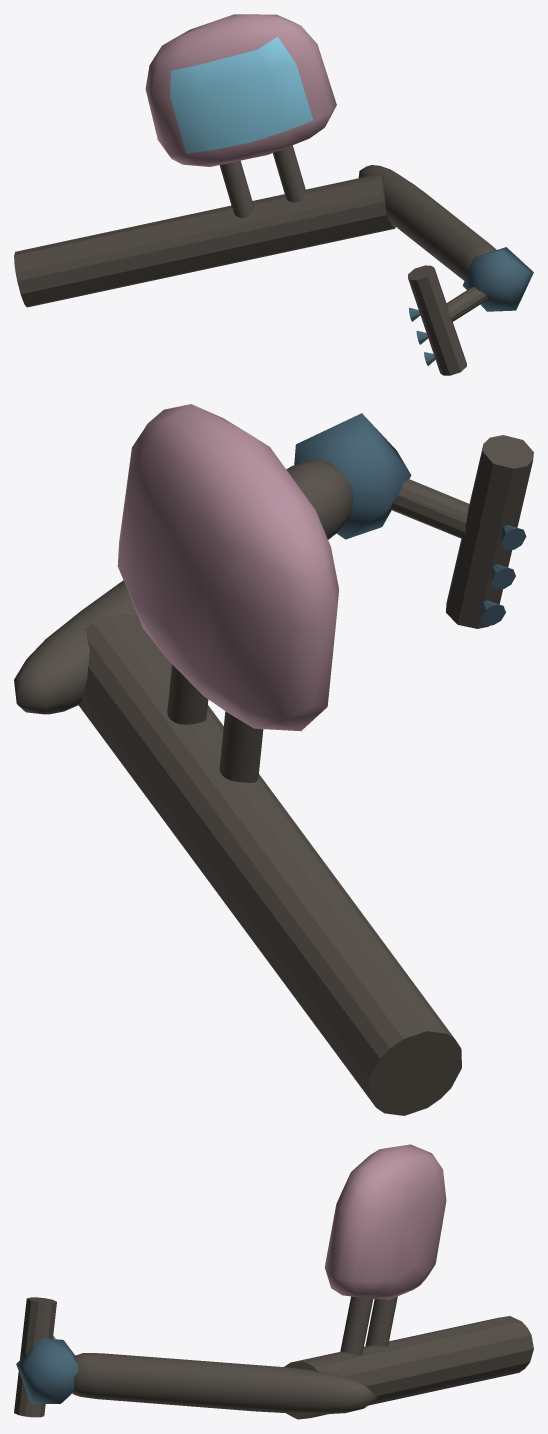
File: machine_part4.glb
3 views of the same model, one above another, from view 1: azimuth 30°, elevation 25°; view 2: azimuth 150°, elevation 25°; view 3: azimuth 270°, elevation 25° (orthographic). The views are drawn at different scales.
Parts seen in each view (by area): view 1: maquina_part4; view 2: maquina_part4; view 3: maquina_part4.
Boxes of the visible parts, left/top/right/bottom form: maquina_part4: left=14, top=14, right=533, bottom=375; maquina_part4: left=14, top=404, right=533, bottom=1115; maquina_part4: left=14, top=1144, right=533, bottom=1419.
Size of what is drawn, in the model's own units: 1.69 by 1.53 by 2.39.
